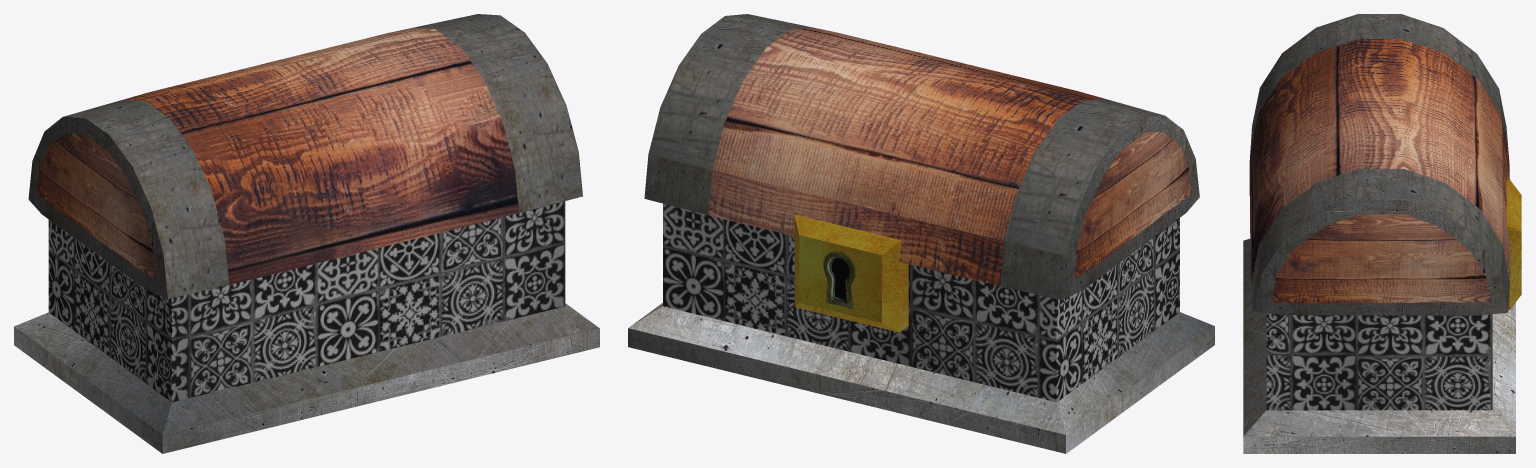
Rendered from Chest.FBX.
3 renders of one model, left to right at view 1: azimuth 30°, elevation 25°; view 2: azimuth 150°, elevation 25°; view 3: azimuth 270°, elevation 25°, orthographic. The views are drawn at different scales.
Visible parts, largest first — view 1: Chest_Lid, Chest_Base; view 2: Chest_Lid, Chest_Base, Chest_Lock; view 3: Chest_Lid, Chest_Base, Chest_Lock.
Boxes of the visible parts, bbox=[...] form: Chest_Lid: bbox=[28, 14, 582, 299]; Chest_Base: bbox=[14, 201, 599, 453]; Chest_Lid: bbox=[644, 14, 1199, 300]; Chest_Base: bbox=[628, 203, 1214, 453]; Chest_Lock: bbox=[794, 215, 908, 332]; Chest_Lid: bbox=[1249, 14, 1510, 315]; Chest_Base: bbox=[1243, 239, 1515, 453]; Chest_Lock: bbox=[1506, 179, 1521, 309].
Bounding box in the file's own units: 102 × 61.05 × 60.8.
3 materials, 3 textured.
